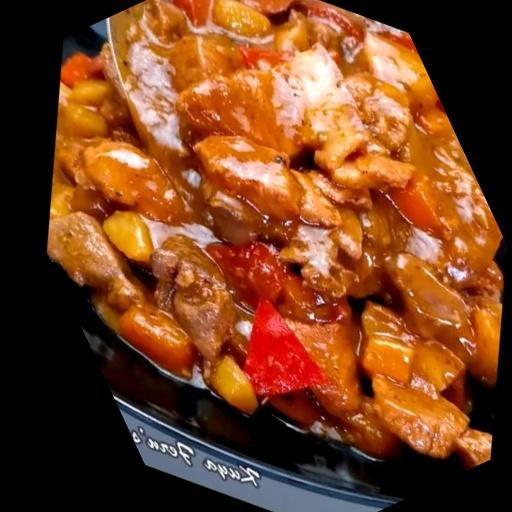pork caldereta: (46, 0, 509, 467)
